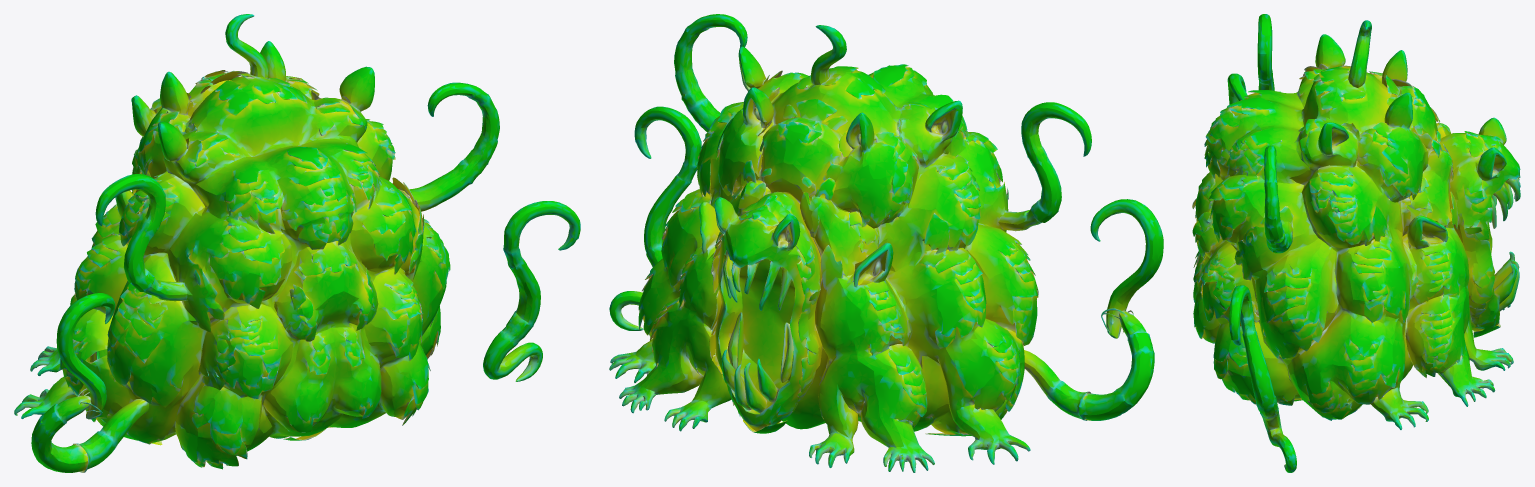
File: RatPack_outline.fbx
The picture shows the model from 3 angles, left to right: view 1: azimuth 30°, elevation 25°; view 2: azimuth 150°, elevation 25°; view 3: azimuth 270°, elevation 25°; orthographic projection. The views are drawn at different scales.
Visible parts, largest first — view 1: RatPack_outline; view 2: RatPack_outline; view 3: RatPack_outline.
Boxes of the visible parts, x1,y1,x2,y2 form: RatPack_outline: (14, 14, 580, 472); RatPack_outline: (609, 14, 1163, 472); RatPack_outline: (1192, 14, 1520, 472).
Bounding box in the file's own units: 182 × 130 × 111.
